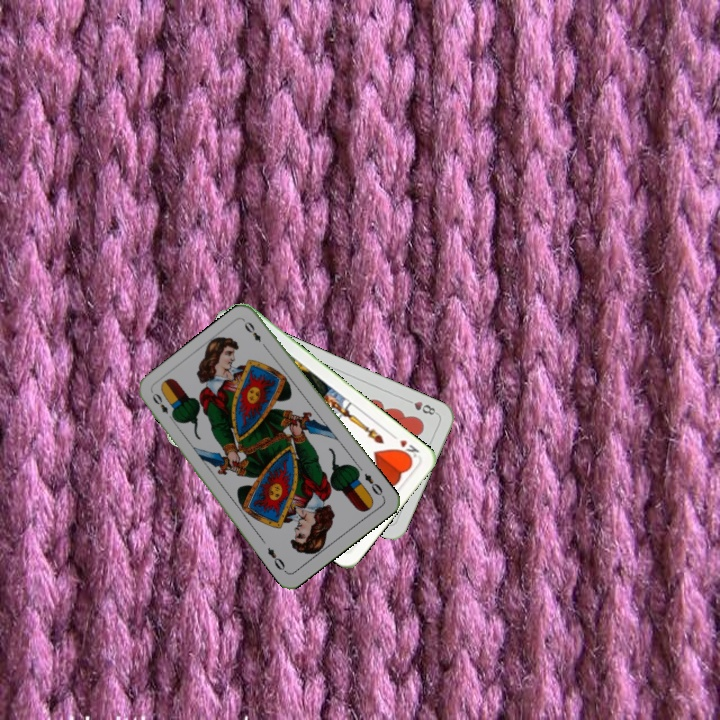EO: (148, 389, 177, 423), (360, 469, 385, 498)
H8: (401, 395, 440, 418)
HK: (394, 436, 422, 463)
